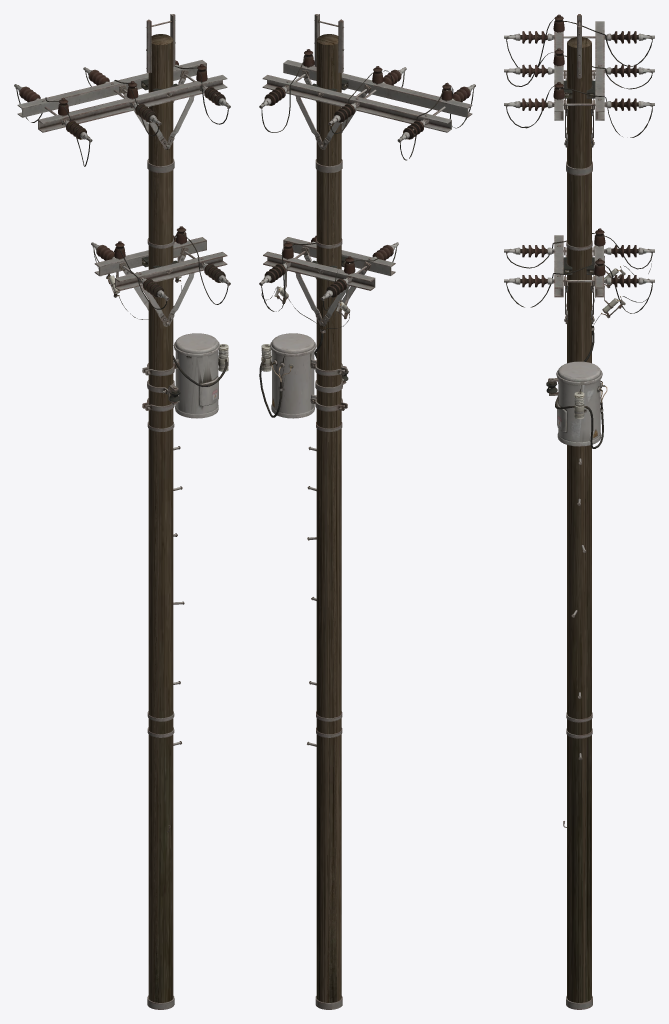
File: modular-electricity-poles.glb
The picture shows the model from 3 angles, left to right: view 1: azimuth 30°, elevation 25°; view 2: azimuth 150°, elevation 25°; view 3: azimuth 270°, elevation 25°; orthographic projection.
Parts seen in each view (by area): view 1: modular_electricity_poles; view 2: modular_electricity_poles; view 3: modular_electricity_poles.
Boxes of the visible parts, x1,y1,x2,y2 form: modular_electricity_poles: [14, 14, 230, 1009]; modular_electricity_poles: [259, 14, 475, 1009]; modular_electricity_poles: [504, 14, 654, 1009].
Size of the model in its own units: 1.29 by 6.13 by 0.8523.
2 materials, 2 textured.
